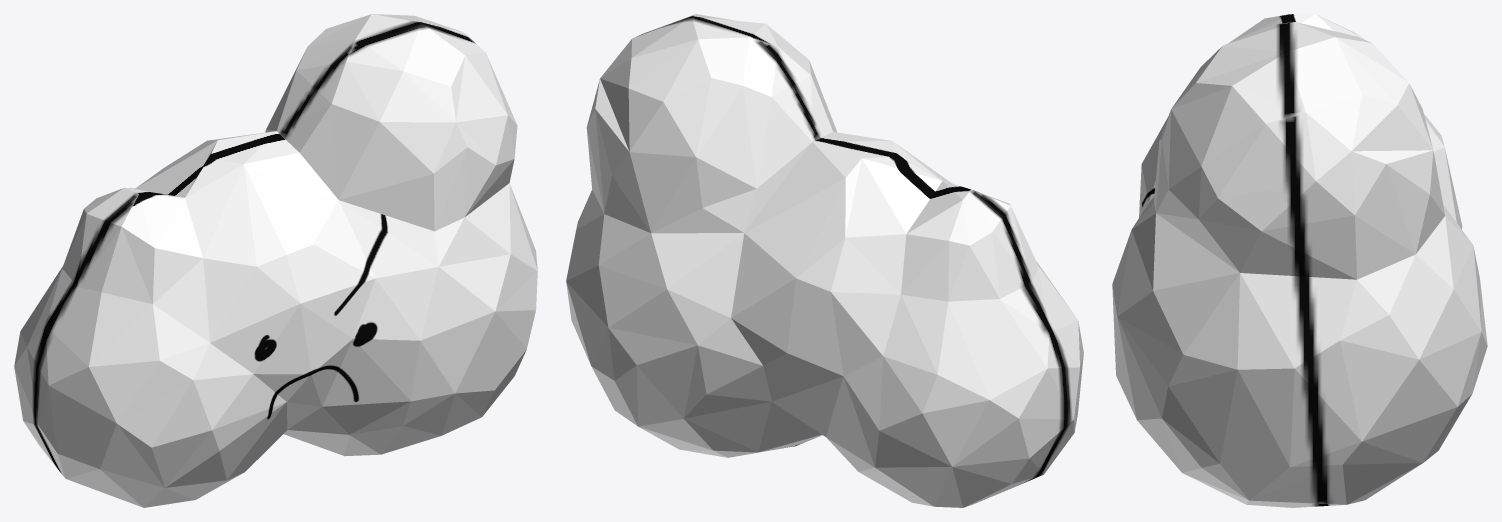
File: tami_fin.fbx
3 views of the same model, side by side, from view 1: azimuth 30°, elevation 25°; view 2: azimuth 150°, elevation 25°; view 3: azimuth 270°, elevation 25° (orthographic). The views are drawn at different scales.
Visible parts, largest first — view 1: pPlatonic2; view 2: pPlatonic2; view 3: pPlatonic2.
Part boxes in pixels (x1=…): pPlatonic2: x1=14, y1=14, x2=537, y2=507; pPlatonic2: x1=566, y1=14, x2=1083, y2=507; pPlatonic2: x1=1112, y1=14, x2=1487, y2=507.
Bounding box in the file's own units: 14.41 × 11.78 × 8.57.
